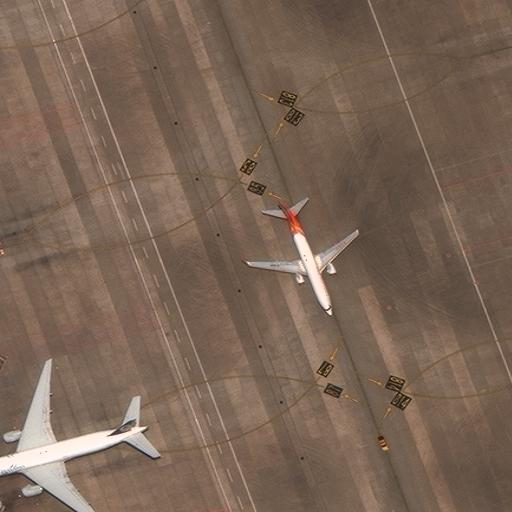Large Civil Transport: (0, 361, 149, 511)
Medium Civil Transport: (247, 205, 358, 313)
